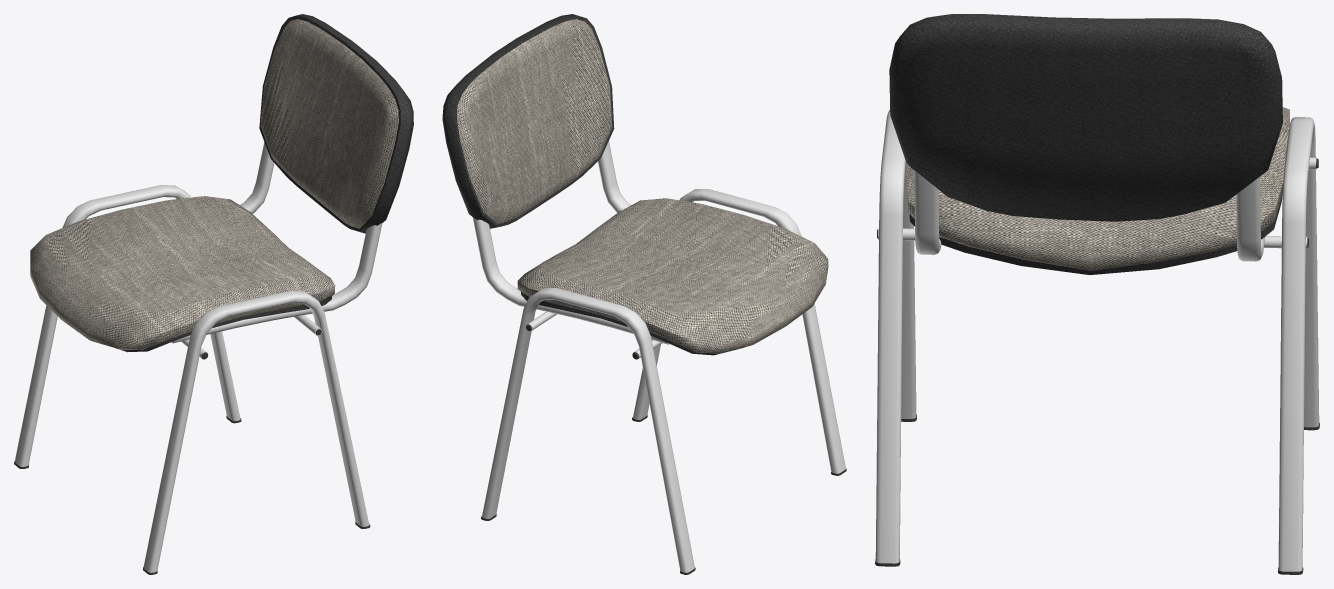
File: chair.glb
The picture shows the model from 3 angles, left to right: view 1: azimuth 30°, elevation 25°; view 2: azimuth 150°, elevation 25°; view 3: azimuth 270°, elevation 25°; orthographic projection. The views are drawn at different scales.
Parts seen in each view (by area): view 1: sidushka.001; view 2: sidushka.001; view 3: sidushka.001.
Part boxes in pixels (bbox=[...]): sidushka.001: bbox=[14, 14, 413, 574]; sidushka.001: bbox=[442, 14, 846, 574]; sidushka.001: bbox=[875, 14, 1319, 574].
Bounding box in the file's own units: 1.83 × 2.41 × 1.65.
Materials: 3 (2 with a texture image).
